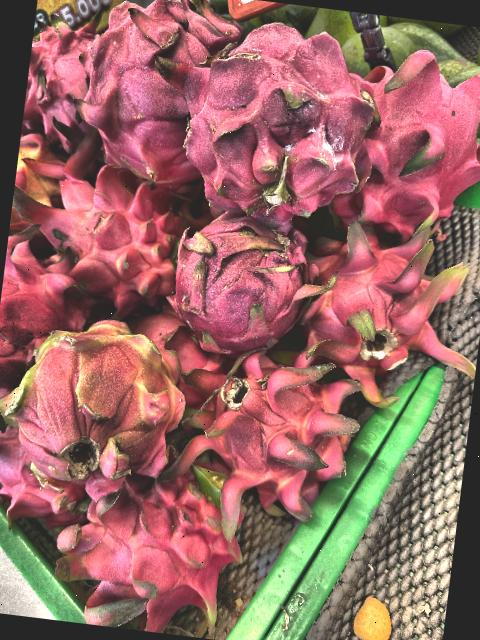buah-naga-belum-matang: (0, 302, 187, 513), (2, 165, 196, 312), (0, 224, 106, 432), (20, 13, 114, 154)
buah-naga-matang: (158, 8, 388, 244), (184, 352, 392, 530), (283, 221, 480, 406), (44, 479, 269, 638), (61, 0, 240, 192), (343, 39, 480, 247), (156, 210, 332, 358)
